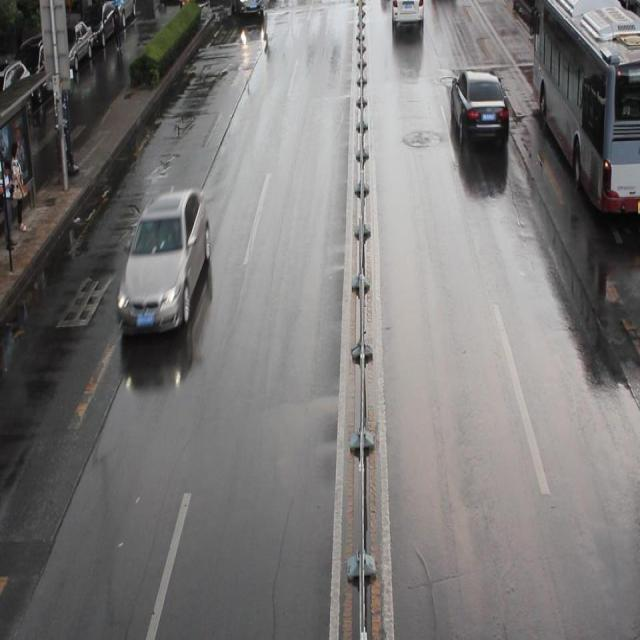car: (118, 188, 210, 336), (450, 68, 508, 141), (390, 1, 423, 23), (234, 1, 263, 14)
van: (531, 1, 640, 212)
